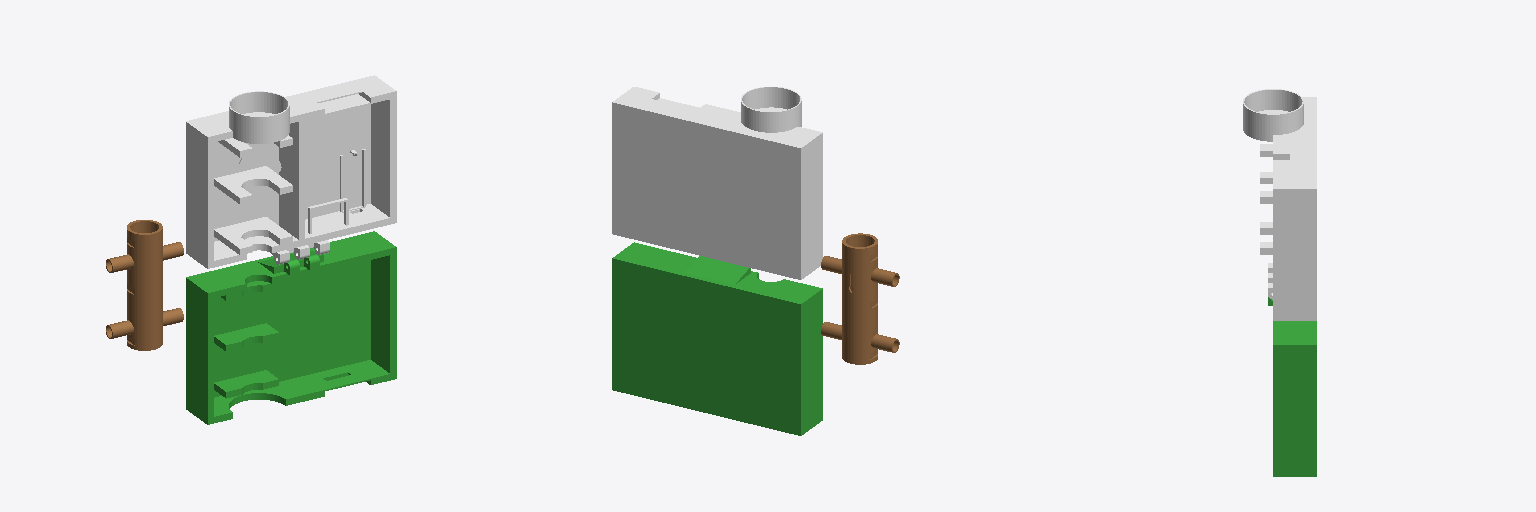
Rendered from tinker.obj.
3 renders of one model, left to right at view 1: azimuth 30°, elevation 25°; view 2: azimuth 150°, elevation 25°; view 3: azimuth 270°, elevation 25°, orthographic.
Parts seen in each view (by area): view 1: obj_0; view 2: obj_0; view 3: obj_0.
Boxes of the visible parts, box(x1,y1,x2,y2) form: obj_0: box(106, 75, 396, 424); obj_0: box(612, 87, 899, 435); obj_0: box(1243, 89, 1316, 476).
Bounding box in the file's own units: 218 × 234 × 51.